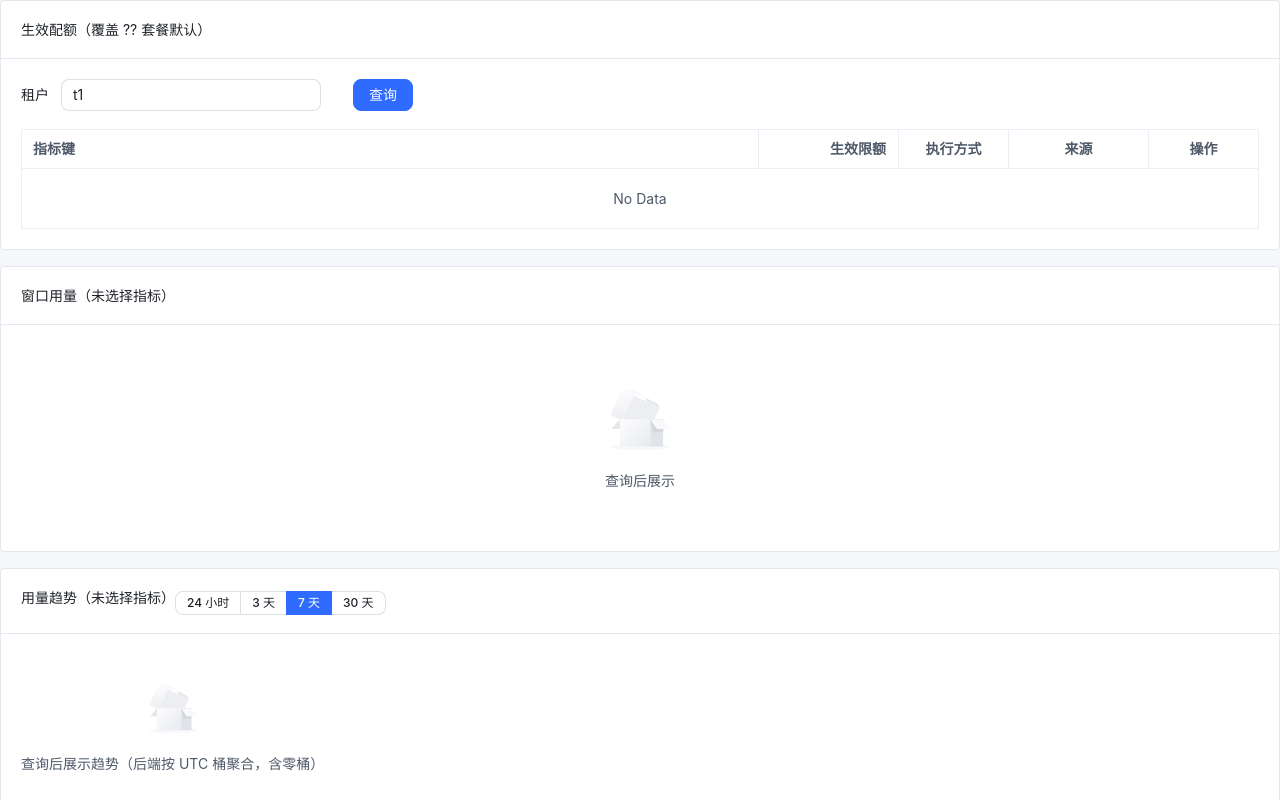
Test: 用量页看板化（M14 B4） › 首次加载：配额 + 窗口用量 + 趋势 + 明细四发齐发
The width and height of the screenshot is (1280, 800).
Click the button "查询": click(383, 95) [353,79,413,111]
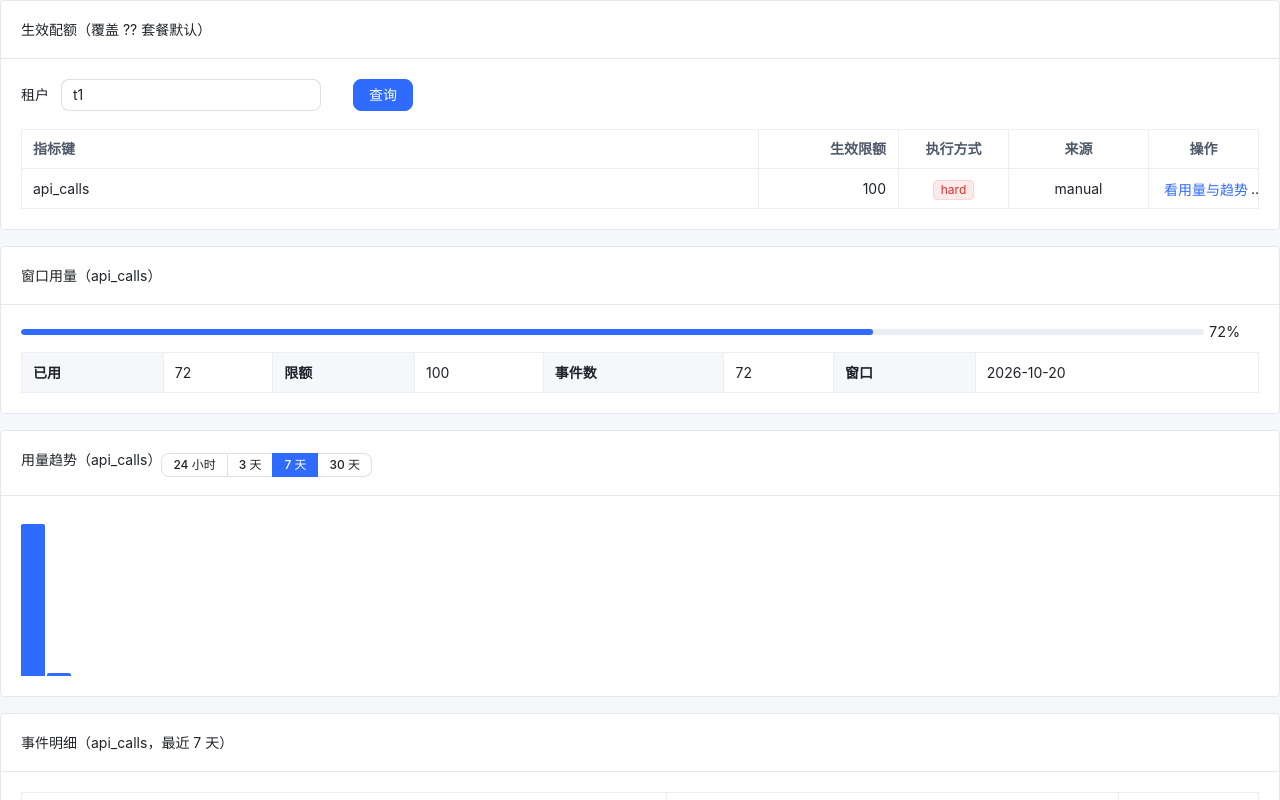
expect the text "用量趋势" is shown: met, box [21,451,161,468]
expect the number of elements with class "trend-bar-inner" is 2: met, box [21,524,45,676]; [47,672,71,676]
